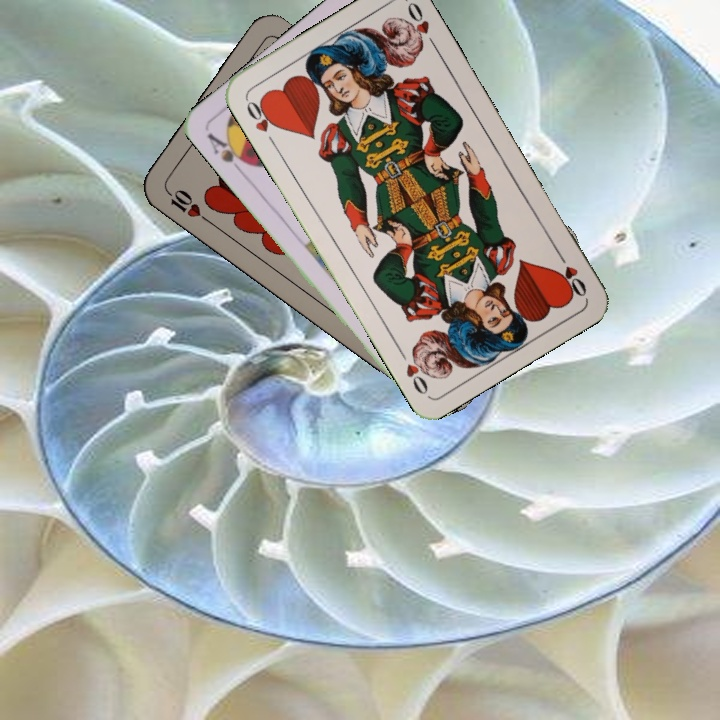H10: (161, 185, 212, 225)
HO: (242, 95, 281, 149), (552, 246, 590, 300)
SA: (203, 128, 254, 177)
